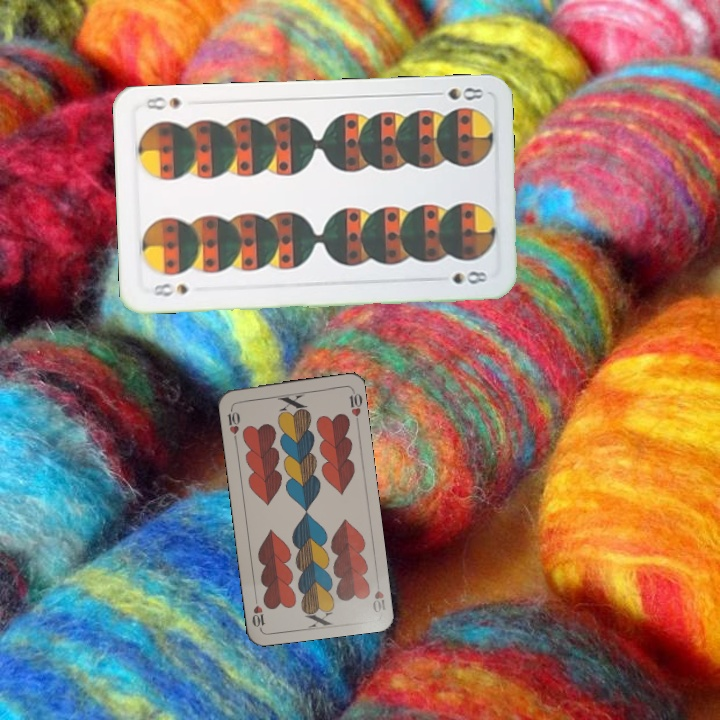H10: (223, 403, 243, 443), (369, 574, 388, 615)
S8: (427, 83, 486, 103), (144, 279, 191, 299)
